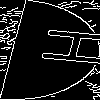H: (24, 25, 100, 68)
